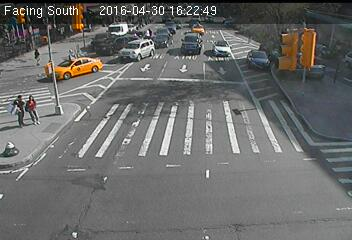neg: (246, 122, 293, 185), (224, 49, 260, 96), (52, 132, 86, 178), (308, 43, 321, 59), (222, 25, 234, 41)
pos: (5, 91, 31, 127)
